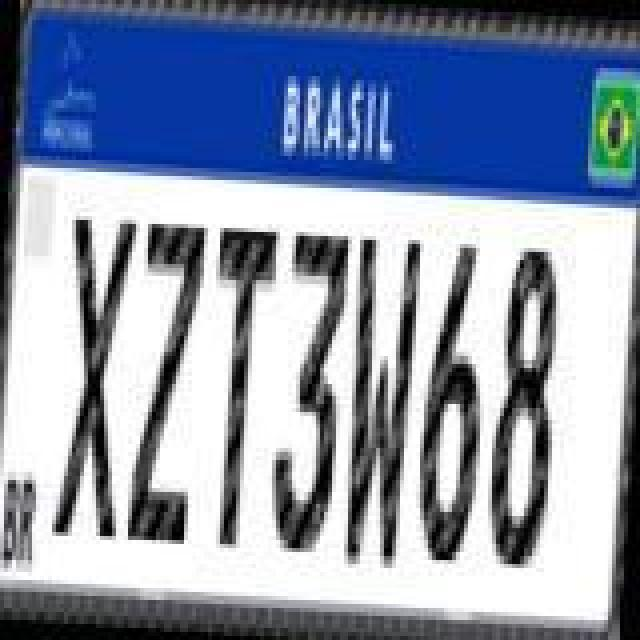3: (264, 224, 352, 560)
6: (414, 230, 498, 570)
8: (480, 242, 568, 574)
T: (198, 222, 282, 554)
W: (336, 228, 424, 572)
X: (50, 210, 142, 542)
Z: (124, 216, 212, 552)
